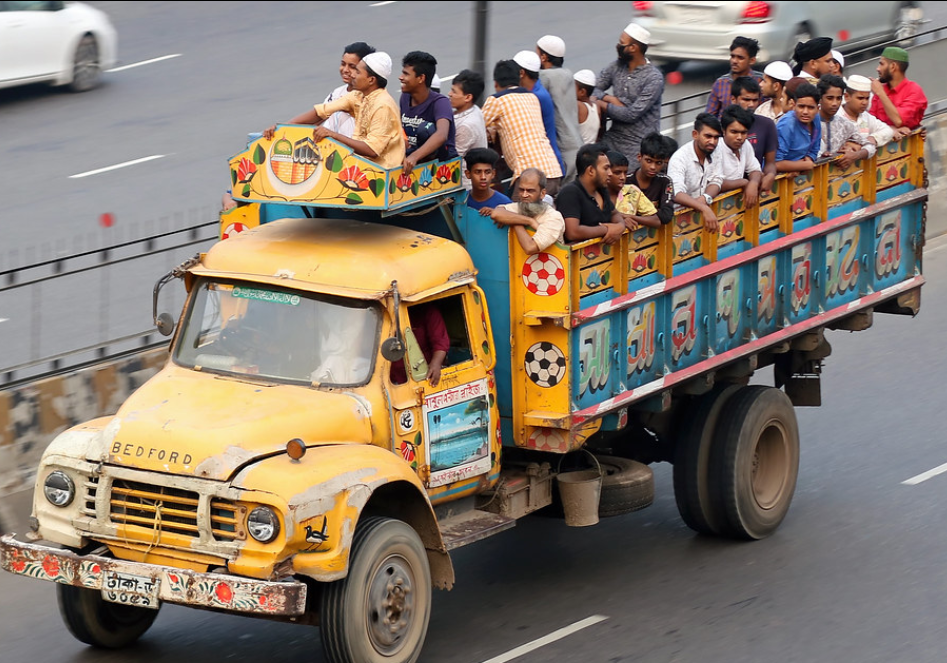Truck: (1, 109, 935, 636)
private car: (3, 0, 135, 97), (627, 2, 792, 59)
